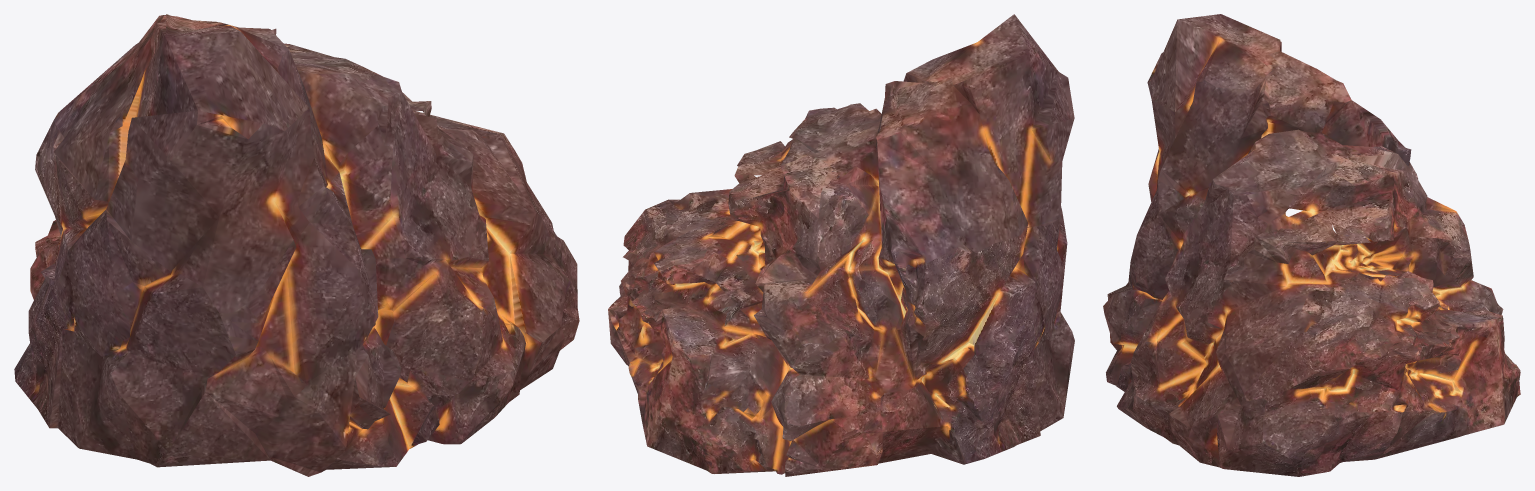
File: prop_lava_rock.87eae6a0.glb
3 renders of one model, left to right at view 1: azimuth 30°, elevation 25°; view 2: azimuth 150°, elevation 25°; view 3: azimuth 270°, elevation 25°, orthographic. The views are drawn at different scales.
Visible parts, largest first — view 1: tripo_node_5a1ee352-28b4-443c-af56-61b38f82ef70; view 2: tripo_node_5a1ee352-28b4-443c-af56-61b38f82ef70; view 3: tripo_node_5a1ee352-28b4-443c-af56-61b38f82ef70.
Part boxes in pixels (x1,y1,x2,y2): tripo_node_5a1ee352-28b4-443c-af56-61b38f82ef70: [14, 14, 579, 476]; tripo_node_5a1ee352-28b4-443c-af56-61b38f82ef70: [608, 14, 1074, 476]; tripo_node_5a1ee352-28b4-443c-af56-61b38f82ef70: [1103, 14, 1520, 476].
Size of the model in its own units: 2.47 by 1.99 by 2.33.
Materials: 1 (1 with a texture image).
